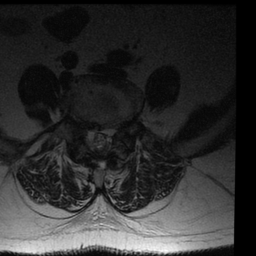CCS_normal: (94, 119, 103, 161)
LFS_severe_stenosis: (113, 114, 123, 139)
LLS_normal: (103, 119, 113, 156)
RFS_severe_stenosis: (75, 114, 84, 138)
RLS_normal: (85, 119, 94, 155)
